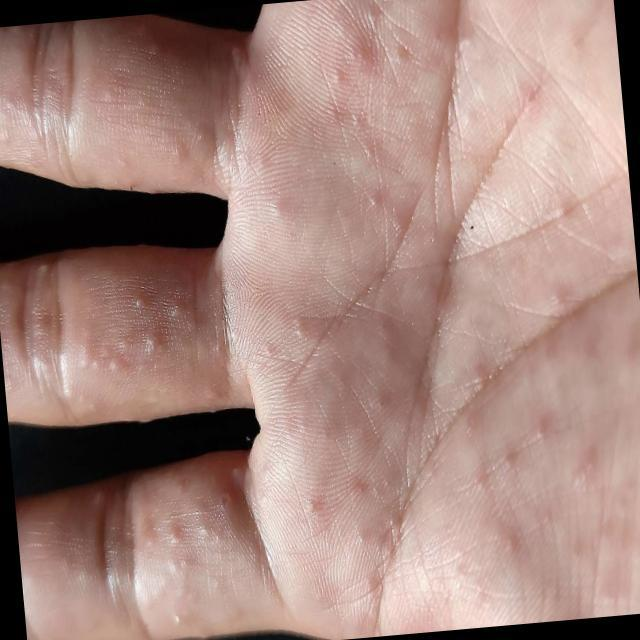Eczema: (242, 0, 638, 548), (43, 496, 252, 638), (7, 267, 248, 381), (54, 24, 214, 172)
